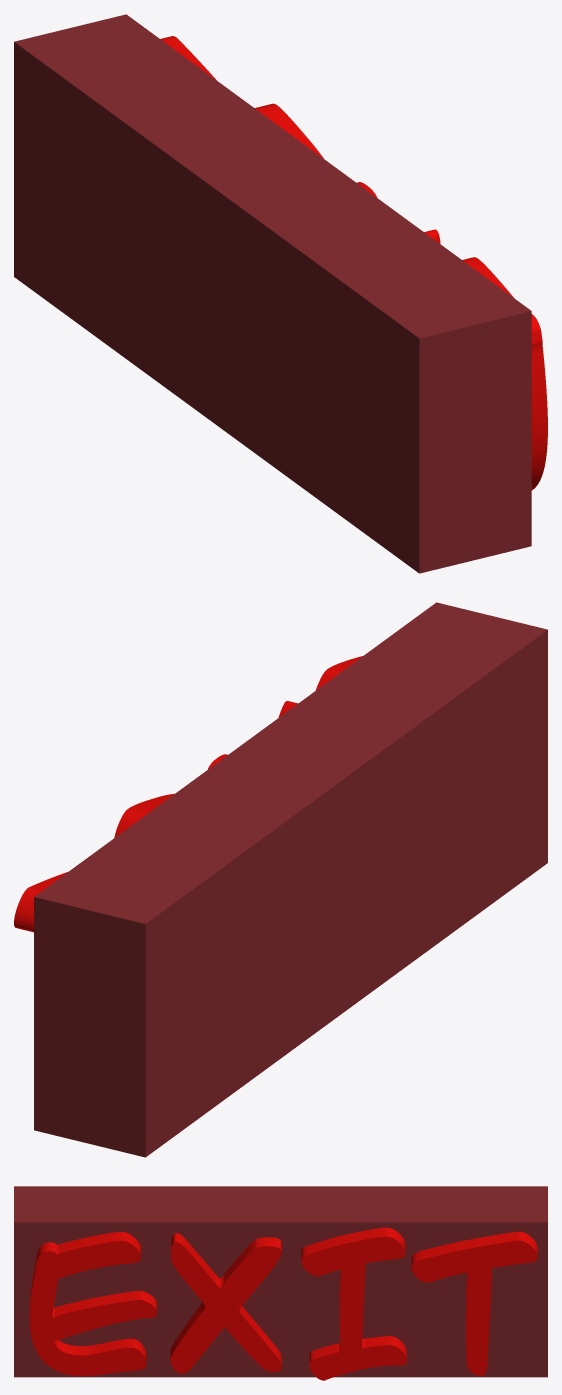
File: exit_sign.fbx
3 renders of one model, top to bottom at view 1: azimuth 30°, elevation 25°; view 2: azimuth 150°, elevation 25°; view 3: azimuth 270°, elevation 25°, orthographic. The views are drawn at different scales.
Visible parts, largest first — view 1: Cube, Text; view 2: Cube, Text; view 3: Cube, Text.
Boxes of the visible parts, left/top/right/bottom form: Cube: left=14, top=14, right=531, bottom=573; Text: left=160, top=36, right=547, bottom=490; Cube: left=34, top=602, right=547, bottom=1157; Text: left=14, top=656, right=362, bottom=932; Cube: left=14, top=1186, right=547, bottom=1377; Text: left=29, top=1227, right=537, bottom=1380.
Bounding box in the file's own units: 50 × 80 × 250.
